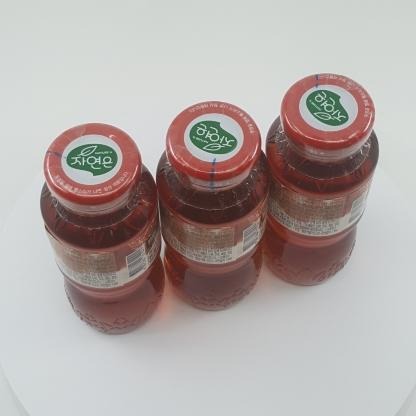-------180ML: (40, 123, 166, 335), (260, 73, 379, 286), (156, 101, 271, 310)
